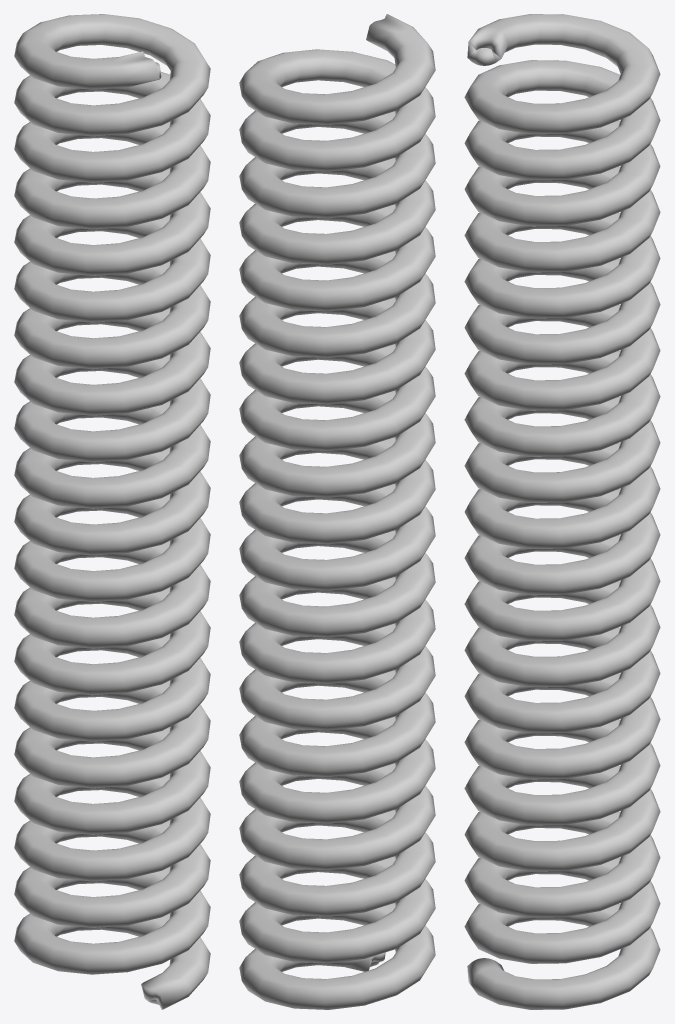
File: feetspring.fbx
3 views of the same model, side by side, from view 1: azimuth 30°, elevation 25°; view 2: azimuth 150°, elevation 25°; view 3: azimuth 270°, elevation 25° (orthographic).
Parts seen in each view (by area): view 1: springforjumpingtoy; view 2: springforjumpingtoy; view 3: springforjumpingtoy.
Boxes of the visible parts, box(x1,y1,x2,y2) form: springforjumpingtoy: box(14, 14, 210, 1009); springforjumpingtoy: box(239, 14, 435, 1009); springforjumpingtoy: box(464, 14, 660, 1009).
Bounding box in the file's own units: 1.74 × 9.26 × 1.74.
